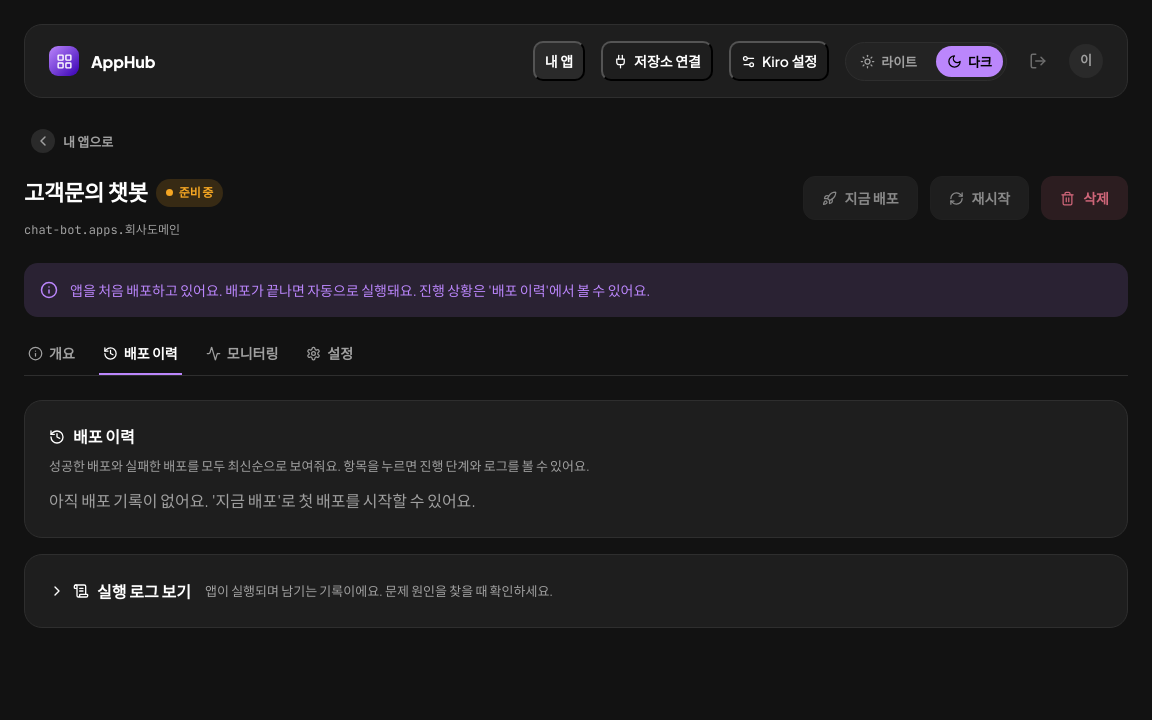
Test: M6 — 앱 실행 로그(최신이 위) › 로그가 없으면 '최근 1시간 동안 기록된 로그가 없어요' 안내(오류 아님)
Click the button "실행 로그 보기 앱이 실행되며 남기는 기록이에요. 문제 원인을 찾을 때 확인하세요.".
click(144, 591)  # box [49, 579, 1103, 603]
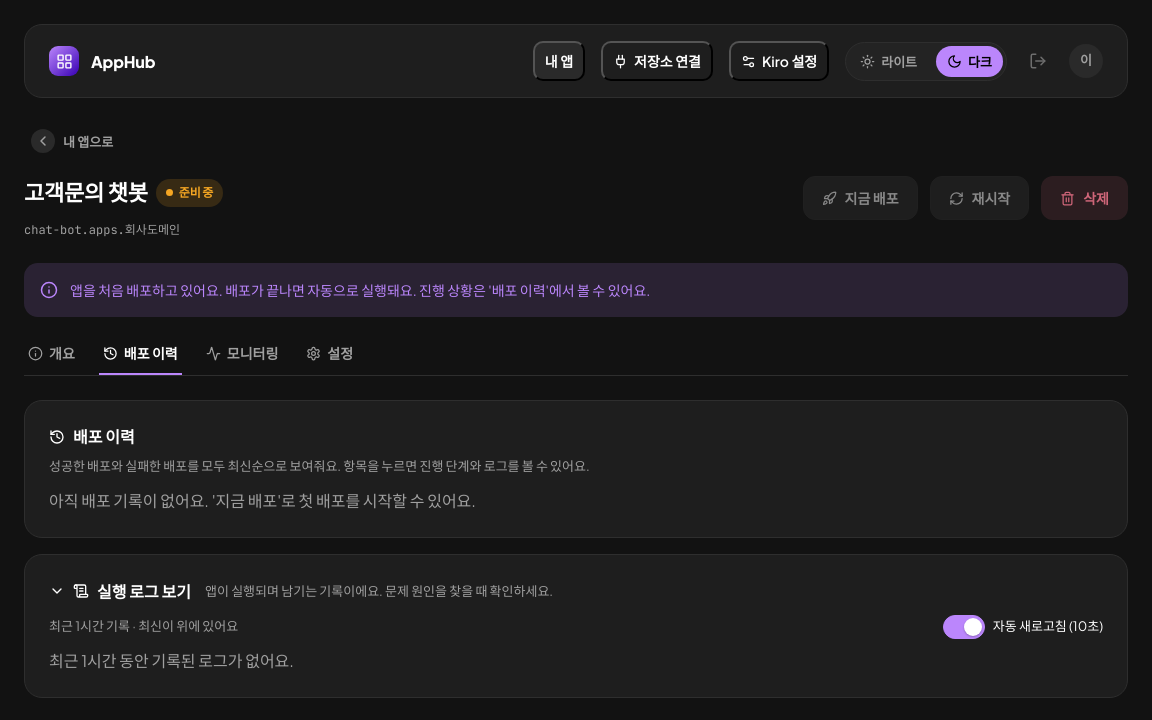
Check: the text "최근 1시간 동안 기록된 로그가 없어요." is shown, box [49, 650, 294, 671]
